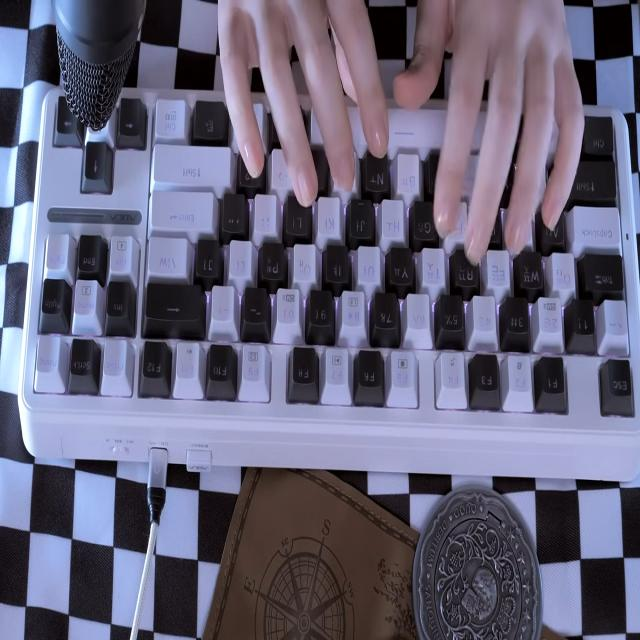keyboard-with-hands: (23, 91, 640, 429)
